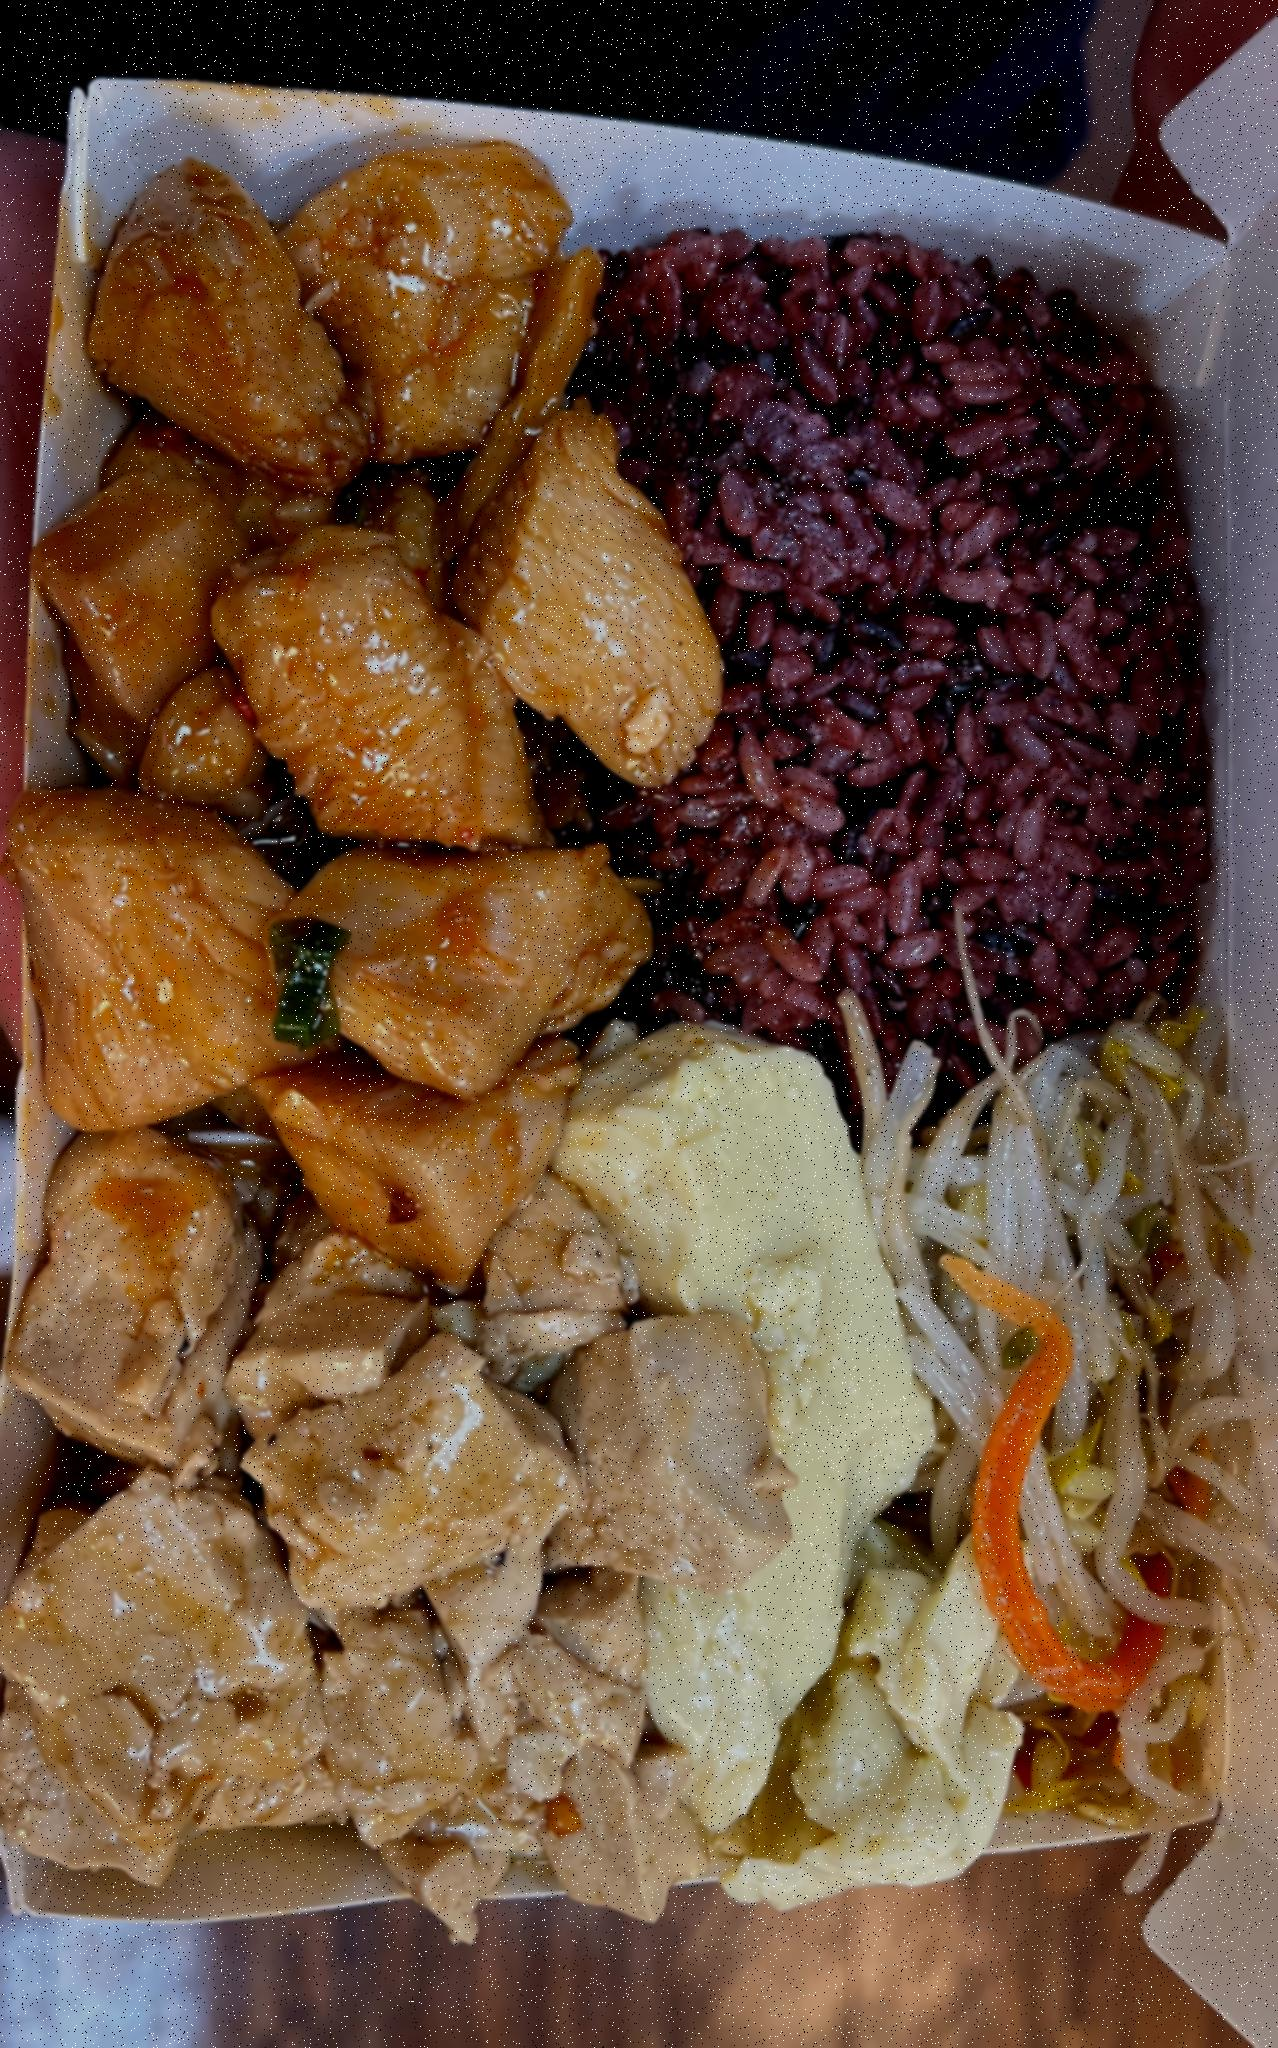box: (35, 35, 1275, 1968)
purple rice: (593, 188, 1206, 1035)
side dish: (53, 1179, 755, 1877), (576, 1037, 978, 1862), (855, 1038, 1260, 1823)
spicy chicken: (72, 144, 655, 1222)
